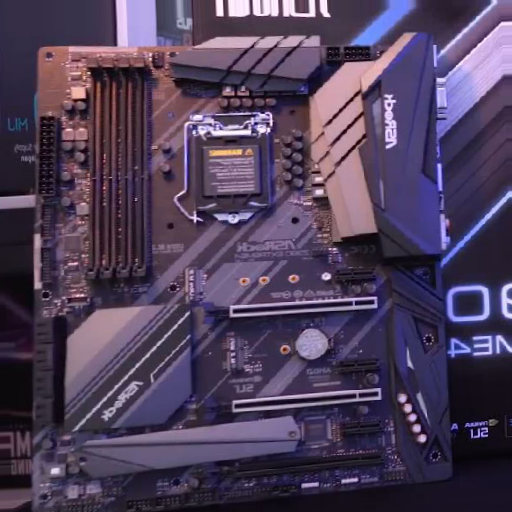CPU: (195, 120, 271, 226)
GPU: (202, 294, 379, 335), (202, 452, 390, 490), (201, 388, 385, 422)
MOTHERBOARD: (27, 37, 456, 504)
RAM: (83, 57, 154, 281)
SSD: (222, 331, 251, 373), (184, 265, 206, 304)
